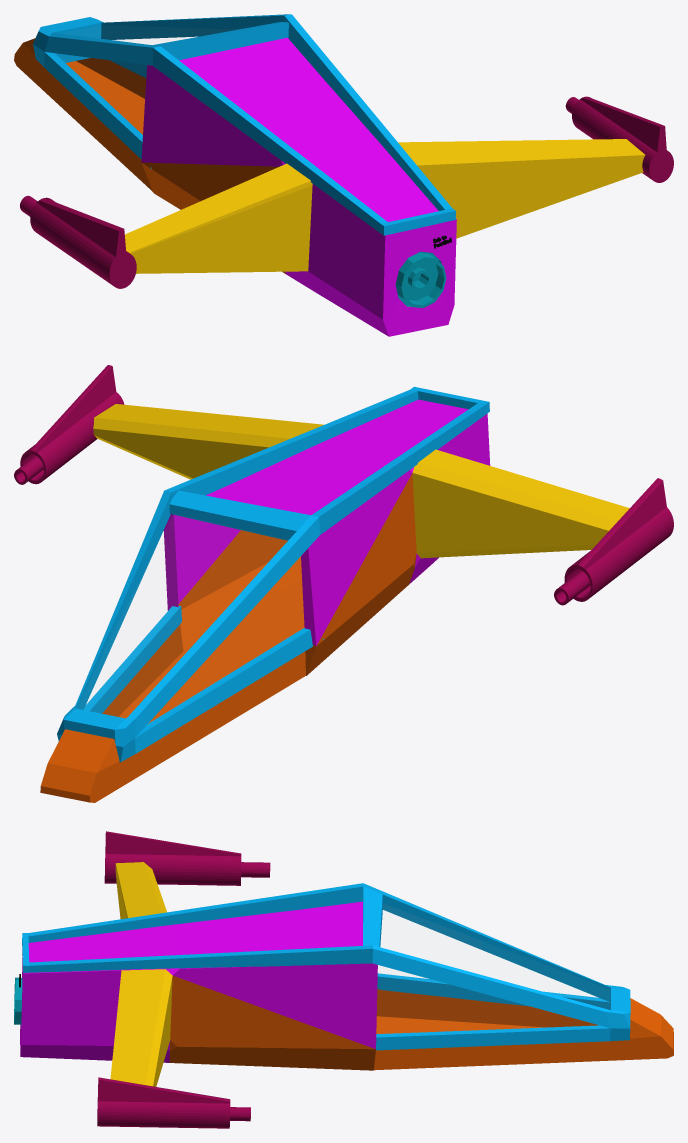
The model's file is Rainbowshipfinal.glb.
3 views of the same model, one above another, from view 1: azimuth 30°, elevation 25°; view 2: azimuth 150°, elevation 25°; view 3: azimuth 270°, elevation 25° (orthographic). The views are drawn at different scales.
Visible parts, largest first — view 1: Cube.004, Cube.005; view 2: Cube.004, Cube.005; view 3: Cube.004, Cube.005.
Boxes of the visible parts, x1,y1,x2,y2 form: Cube.004: (14, 37, 673, 336); Cube.005: (33, 14, 455, 235); Cube.004: (14, 365, 673, 802); Cube.005: (57, 386, 489, 762); Cube.004: (14, 831, 673, 1128); Cube.005: (22, 883, 630, 1050).
Bounding box in the file's own units: 10.19 × 2.77 × 12.06.
